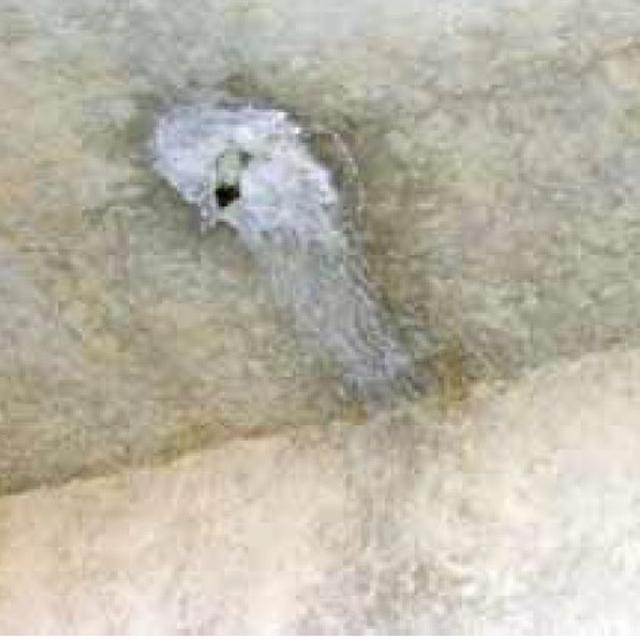freelime: (119, 91, 397, 403)
